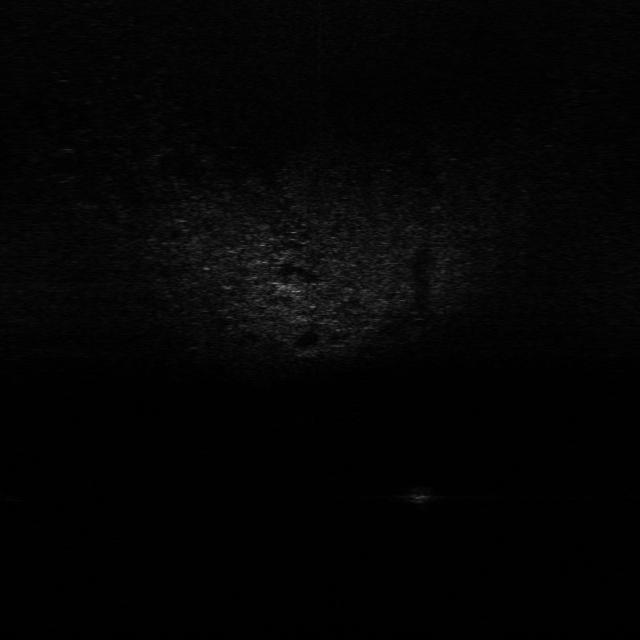cylinder: (403, 482, 436, 504)
